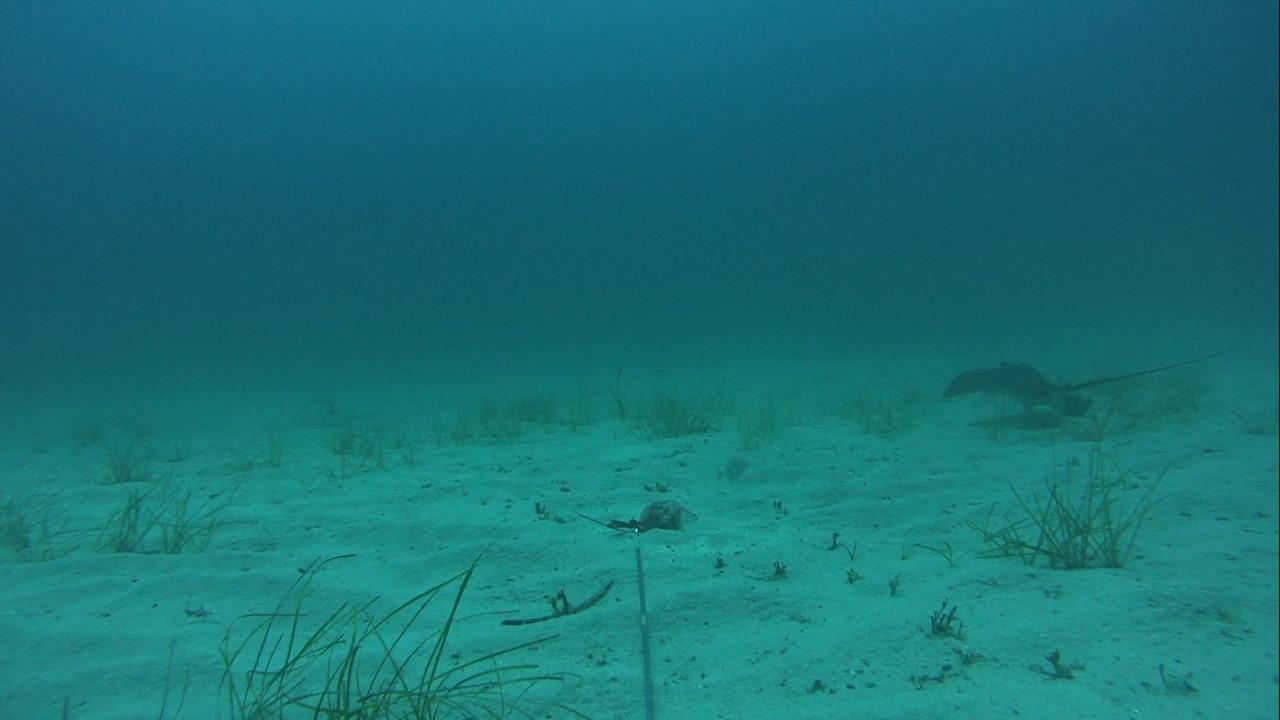myliobatis: (928, 341, 1253, 417)
raor: (713, 451, 764, 484)
